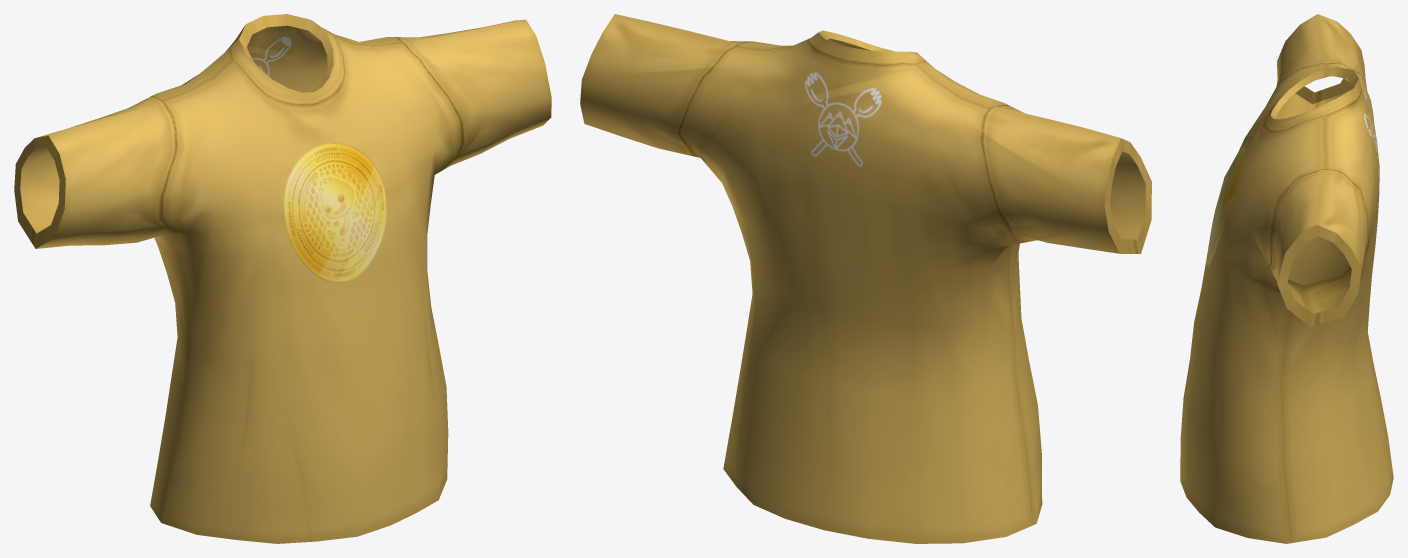
File: TShirt_93.glb
The picture shows the model from 3 angles, left to right: view 1: azimuth 30°, elevation 25°; view 2: azimuth 150°, elevation 25°; view 3: azimuth 270°, elevation 25°; orthographic projection. The views are drawn at different scales.
Parts seen in each view (by area): view 1: TShirt_LP.001; view 2: TShirt_LP.001; view 3: TShirt_LP.001.
Part boxes in pixels (x1=…): TShirt_LP.001: x1=14, y1=14, x2=551, y2=543; TShirt_LP.001: x1=580, y1=14, x2=1151, y2=543; TShirt_LP.001: x1=1180, y1=14, x2=1393, y2=543.
Size of the model in its own units: 0.6266 by 0.5314 by 0.2526.
1 material, 1 textured.
